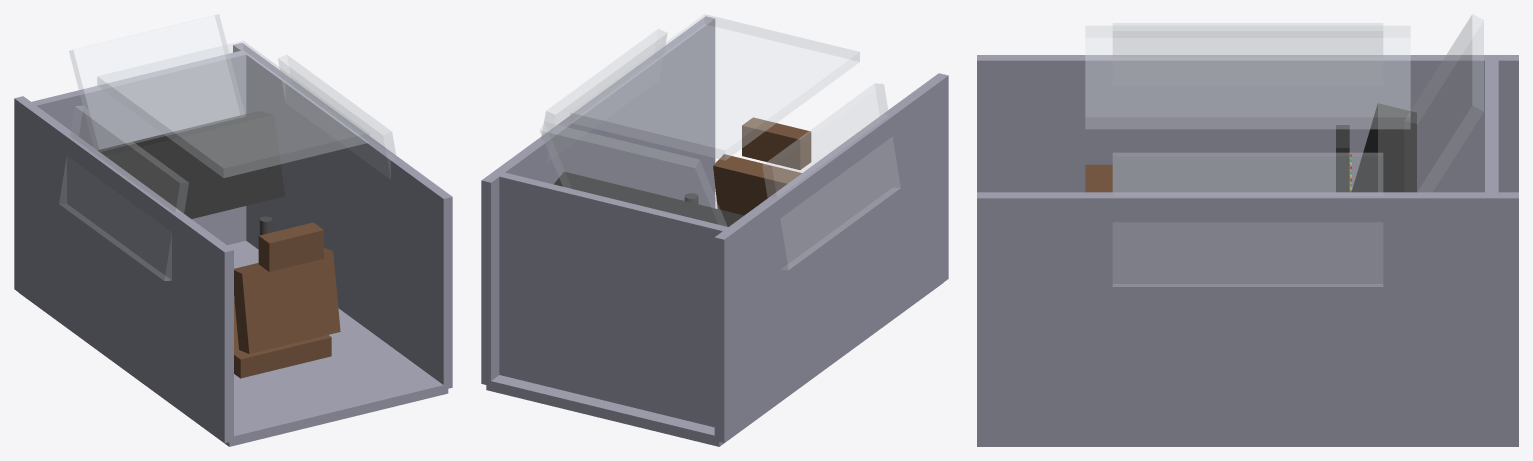
Rendered from simple_cockpit.glb.
3 views of the same model, side by side, from view 1: azimuth 30°, elevation 25°; view 2: azimuth 150°, elevation 25°; view 3: azimuth 270°, elevation 25° (orthographic). The views are drawn at different scales.
Parts seen in each view (by area): view 1: Frame_Left, Frame_Right, Top_Canopy, Windscreen, Frame_Bottom, Frame_Front, Instrument_Panel, Left_Window, Seat_Back, Right_Window, Headrest, Seat_Base; view 2: Frame_Left, Frame_Front, Frame_Right, Top_Canopy, Left_Window, Windscreen, Frame_Bottom, Right_Window, Seat_Back, Instrument_Panel, Headrest; view 3: Frame_Right, Frame_Left, Top_Canopy, Right_Window, Left_Window, Windscreen, Instrument_Panel, Frame_Bottom, Frame_Front, Switch_Panel, Headrest.
Boxes of the visible parts, x1,y1,x2,y2 form: Frame_Left: (14, 96, 233, 443); Frame_Right: (233, 43, 452, 389); Top_Canopy: (97, 41, 369, 177); Windscreen: (69, 14, 244, 149); Frame_Bottom: (19, 241, 448, 446); Frame_Front: (29, 51, 246, 245); Instrument_Panel: (98, 111, 284, 218); Left_Window: (59, 106, 188, 280); Seat_Back: (234, 247, 340, 353); Right_Window: (278, 54, 396, 178); Headrest: (258, 222, 323, 271); Seat_Base: (234, 299, 331, 378); Frame_Left: (714, 73, 948, 442); Frame_Front: (499, 172, 732, 427); Frame_Right: (481, 16, 715, 385); Top_Canopy: (570, 14, 859, 160); Left_Window: (762, 83, 900, 269); Windscreen: (540, 122, 727, 226); Frame_Bottom: (486, 283, 942, 446); Right_Window: (541, 29, 667, 160); Seat_Back: (713, 154, 801, 215); Instrument_Panel: (554, 171, 743, 226); Headrest: (742, 117, 811, 169); Frame_Right: (977, 192, 1518, 443); Frame_Left: (977, 55, 1518, 192); Top_Canopy: (1085, 26, 1410, 128); Right_Window: (1113, 153, 1382, 286); Left_Window: (1113, 23, 1382, 56); Windscreen: (1405, 14, 1483, 191); Instrument_Panel: (1351, 103, 1416, 192); Frame_Bottom: (977, 443, 1518, 446); Frame_Front: (1485, 58, 1498, 195); Switch_Panel: (1336, 125, 1349, 192); Headrest: (1085, 164, 1112, 192).
Bounding box in the file's own units: 1.34 × 1.3 × 2.
